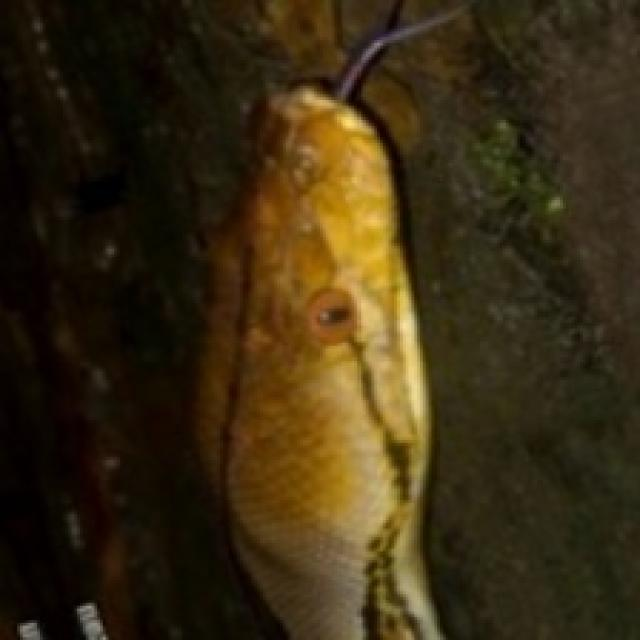reticulated python: (197, 6, 463, 637)
